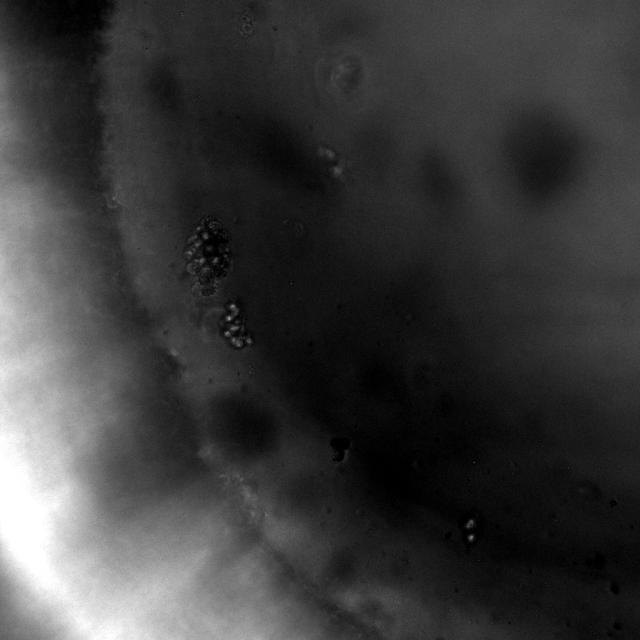organoid: (183, 215, 232, 297), (219, 298, 252, 349), (331, 437, 351, 462)
